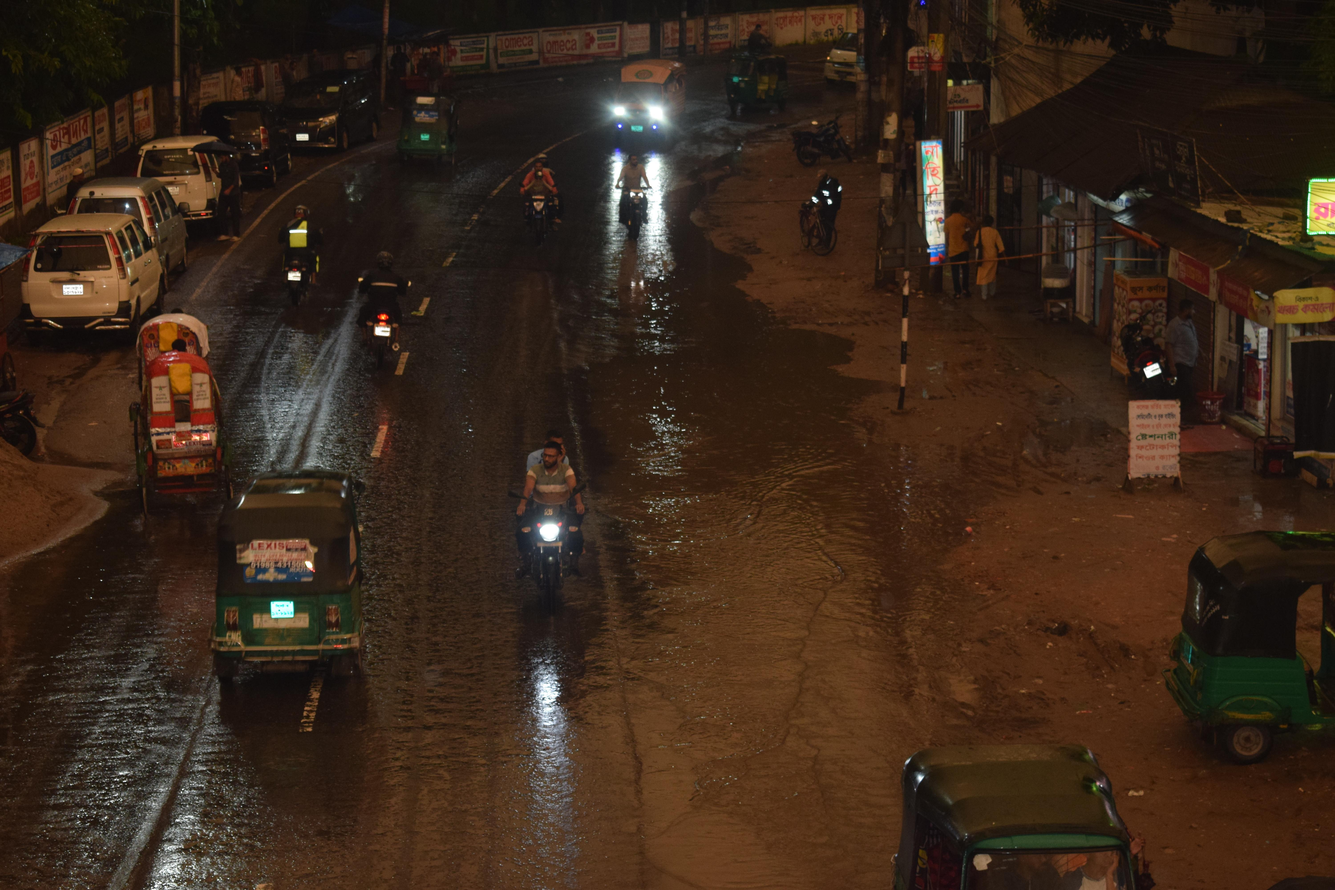Bike: (463, 401, 644, 630), (334, 231, 442, 392), (252, 189, 366, 318), (779, 156, 878, 279), (498, 142, 587, 274), (598, 139, 684, 249)
Car: (93, 336, 257, 533), (0, 202, 174, 378), (47, 160, 209, 306), (134, 117, 256, 242), (266, 53, 396, 168), (182, 85, 314, 192)
